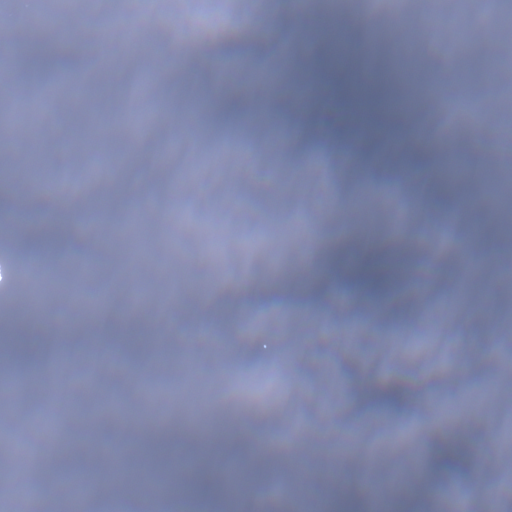Iceberg: (0, 274, 1, 280), (263, 345, 266, 347)
